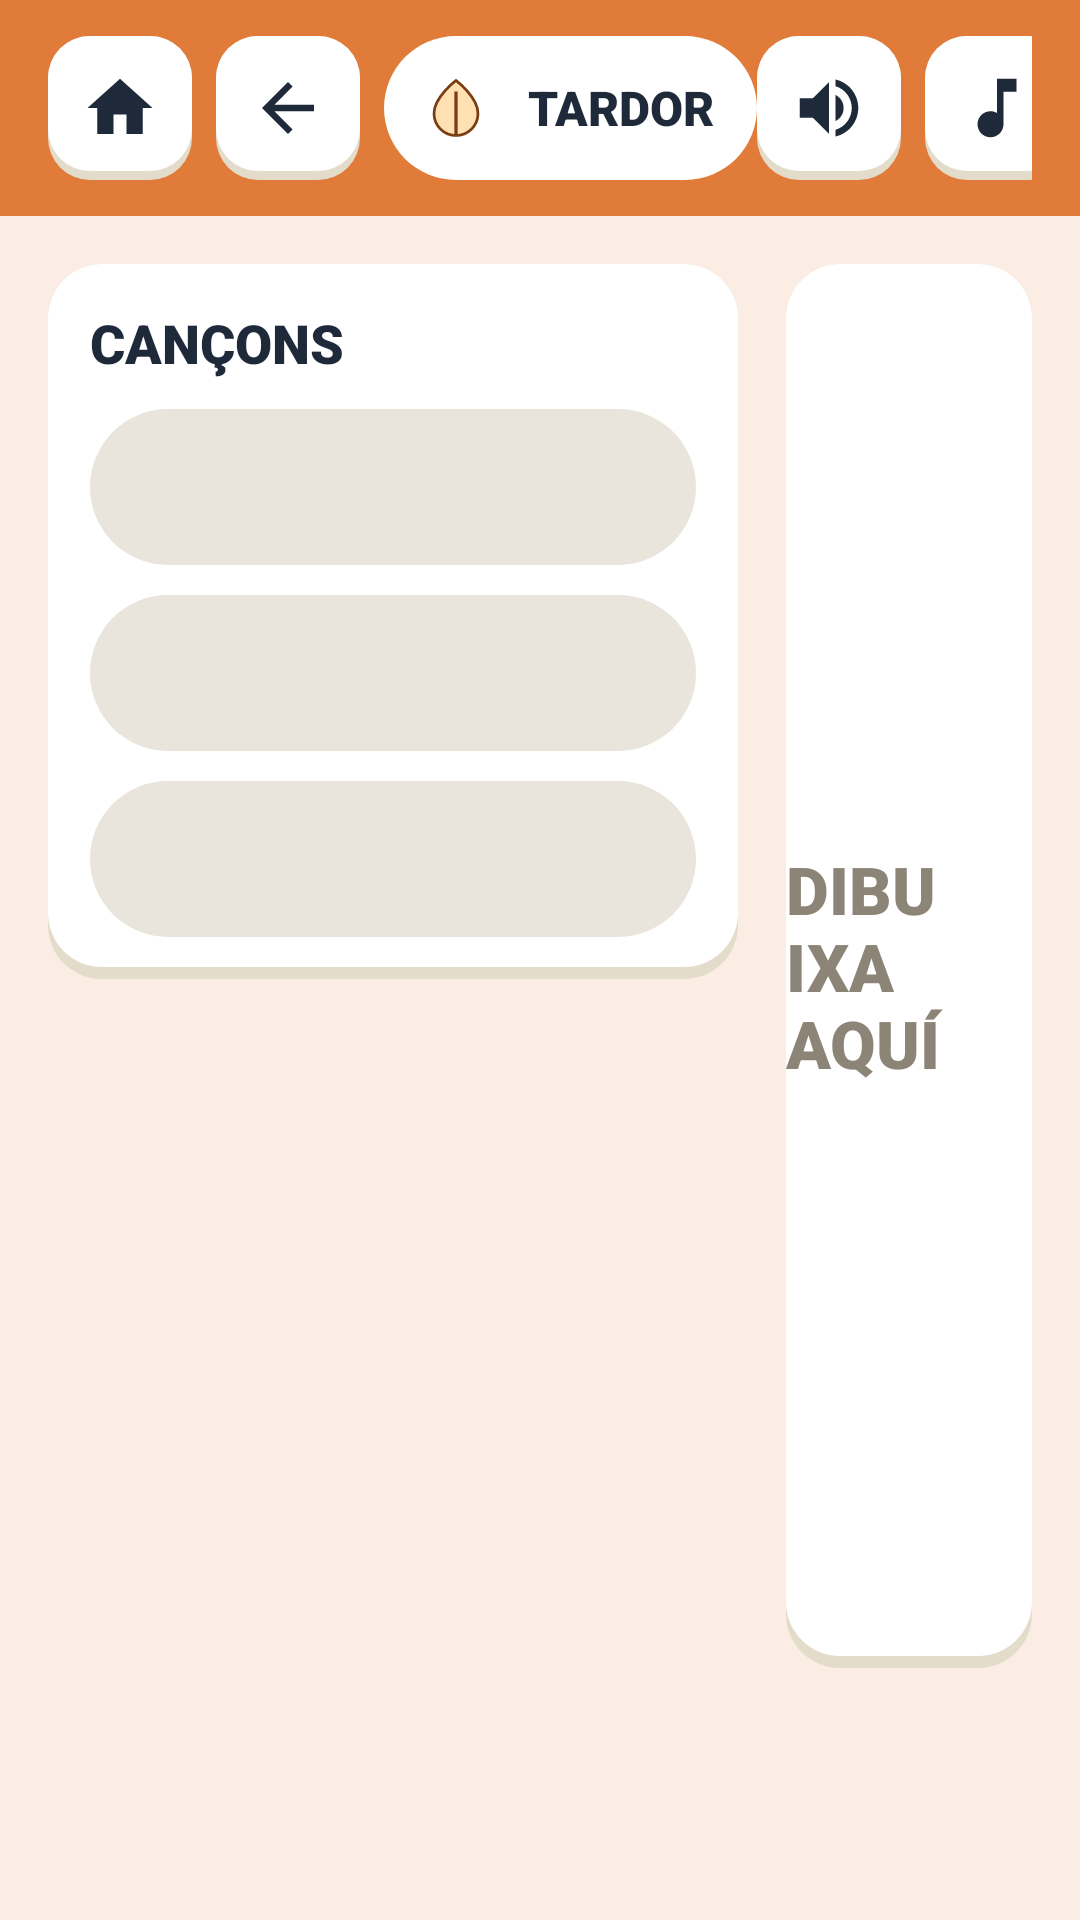

Icons on this 1080x1920 Android screen, each with the point to tap as (x=x, y=y):
Enrere: (x=288, y=108)
Escoltar: (x=829, y=108)
Inici: (x=120, y=108)
Música: (x=978, y=108)
otono: (x=456, y=108)
